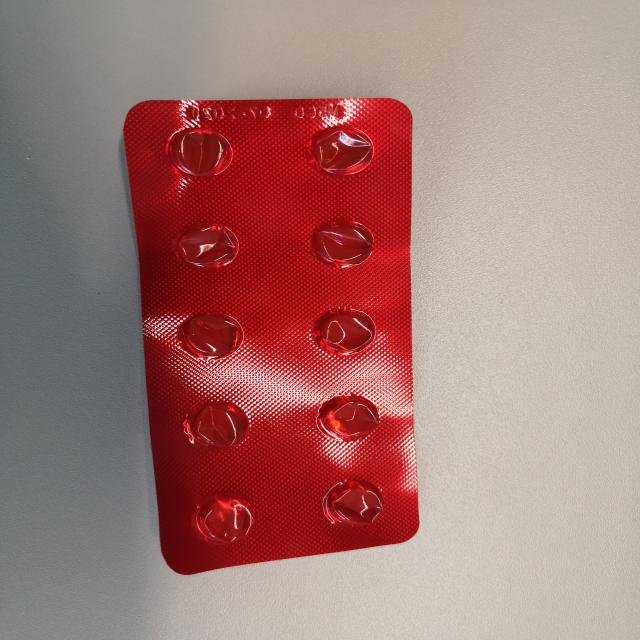Empty: (163, 218, 254, 274), (176, 494, 262, 548), (305, 124, 385, 181), (316, 476, 396, 532), (155, 124, 236, 178), (308, 392, 387, 447), (305, 306, 383, 359), (180, 400, 253, 455), (303, 218, 379, 269), (170, 310, 243, 363)
